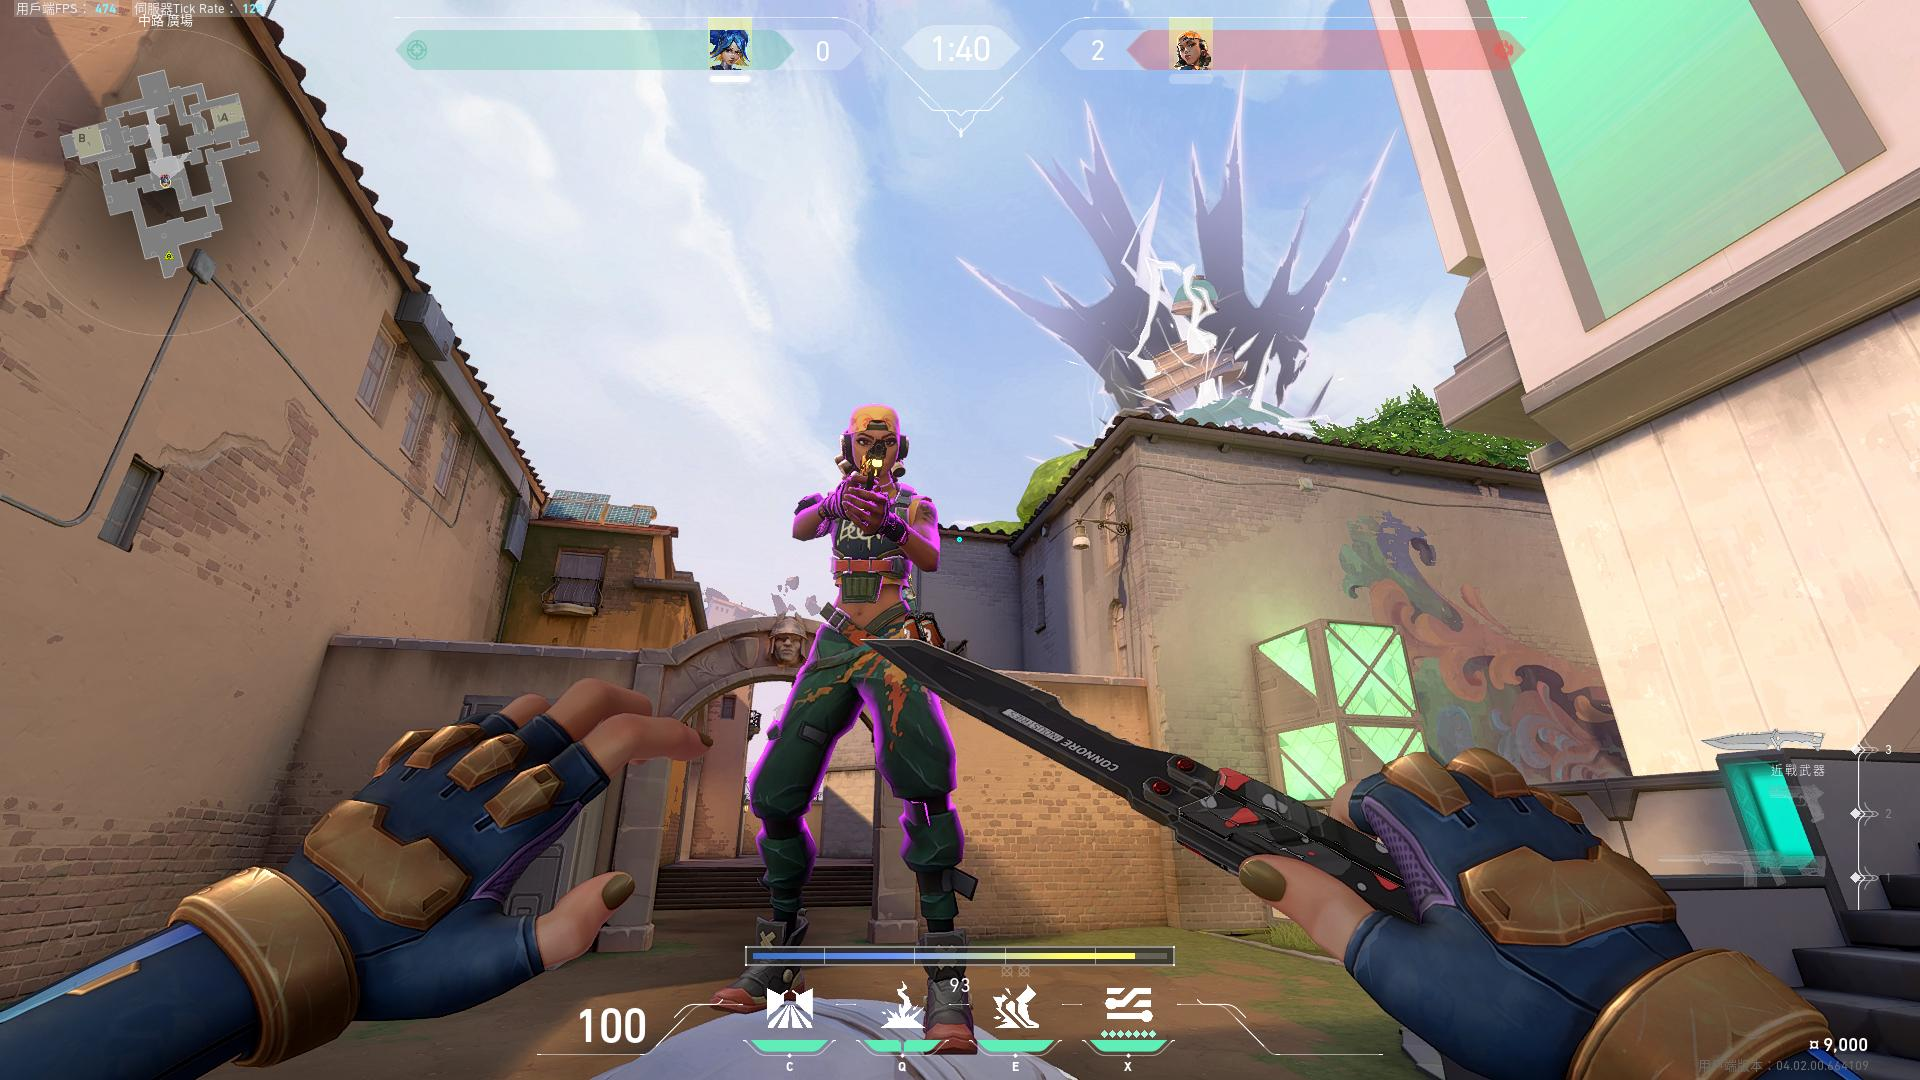enemyHead: (843, 406, 907, 473)
